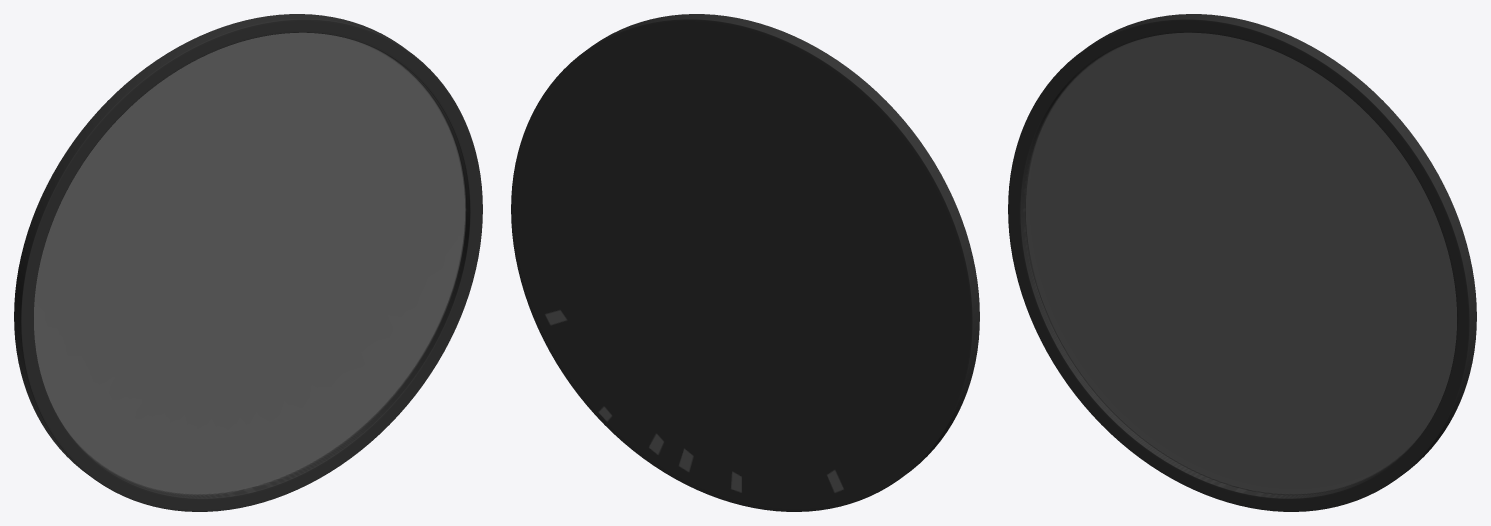
The model's file is Mirror_001(MatteBlack).gltf.
3 views of the same model, side by side, from view 1: azimuth 30°, elevation 25°; view 2: azimuth 150°, elevation 25°; view 3: azimuth 330°, elevation 25° (orthographic).
Parts seen in each view (by area): view 1: Mirror_001; view 2: Mirror_001; view 3: Mirror_001.
Boxes of the visible parts, x1,y1,x2,y2 form: Mirror_001: [14, 14, 482, 511]; Mirror_001: [511, 14, 979, 511]; Mirror_001: [1008, 14, 1476, 511].
Size of the model in its own units: 0.7086 by 0.7035 by 0.0199.
1 material, 1 textured.
